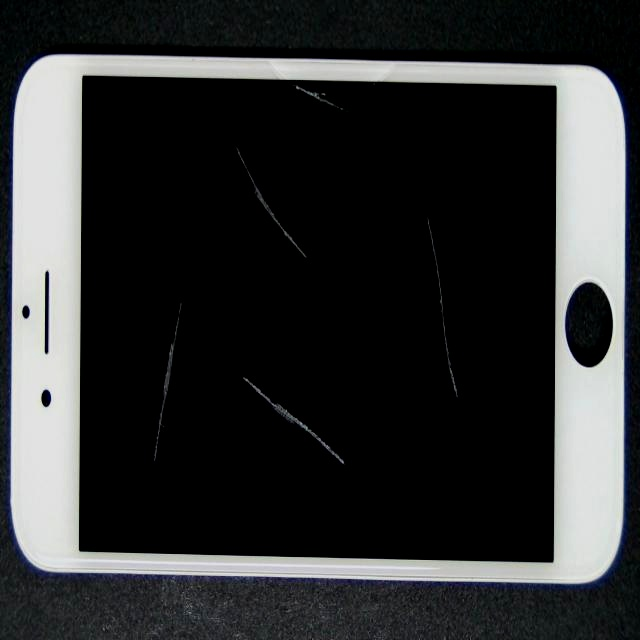scratch: (92, 8, 377, 288), (107, 48, 248, 513)
